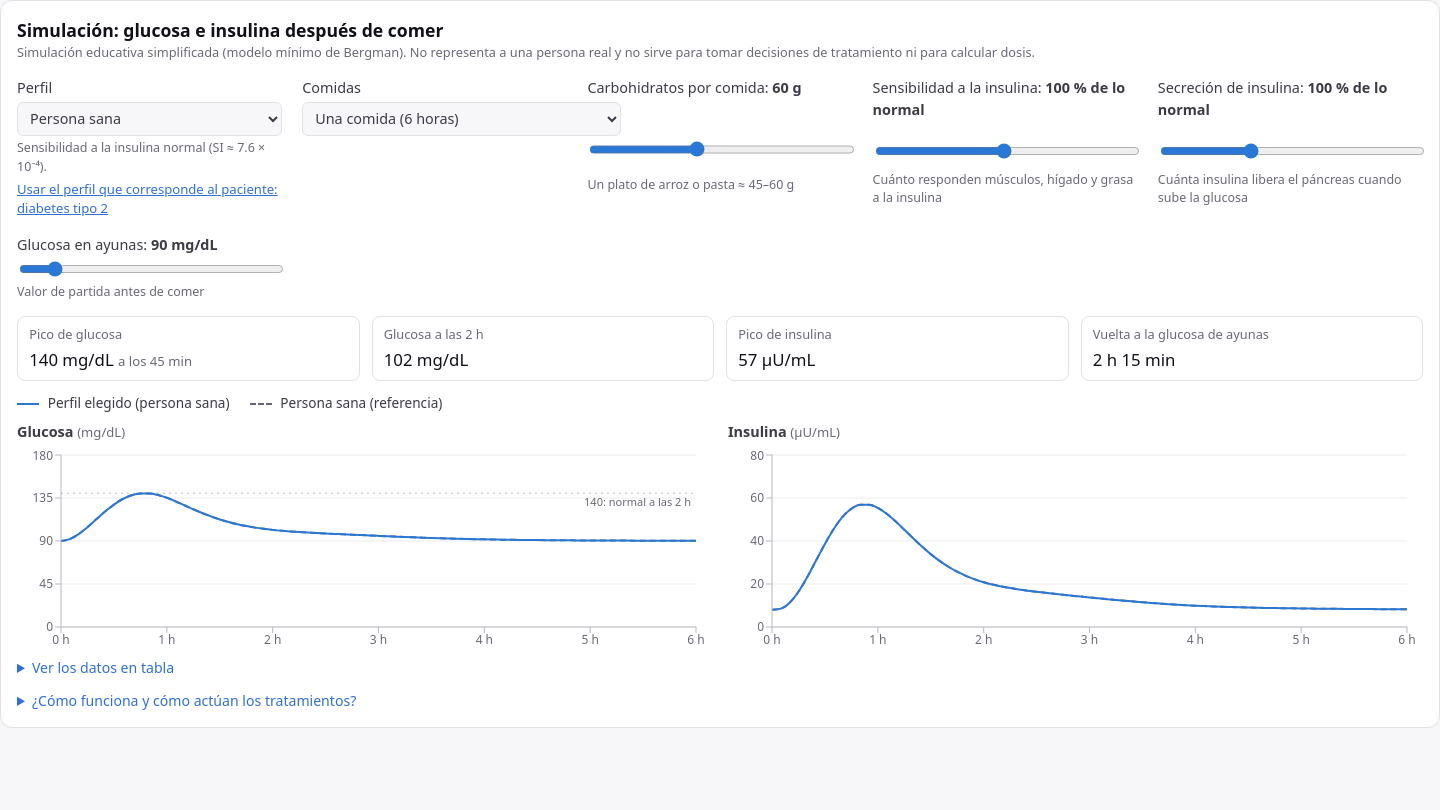
panel de simulación › sugiere el perfil que corresponde al paciente evaluado
This screenshot has width=1440, height=810.
Click the button "Usar el perfil que corresponde al paciente: diabetes tipo 2": {"x": 150, "y": 200} [17,180,282,219]
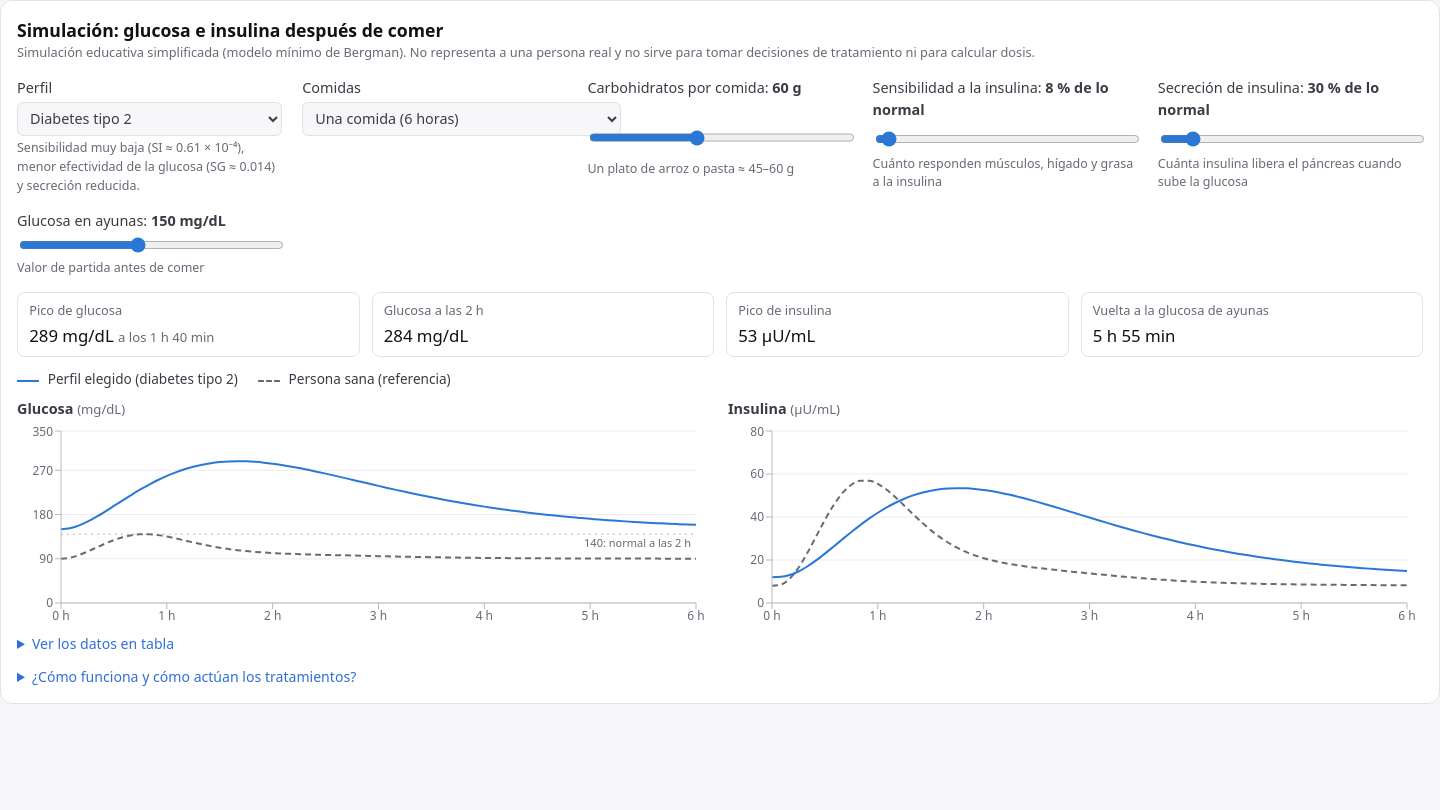
Expected: the dropdown labelled "Perfil" shows "Diabetes tipo 2", [17,102,282,136]
Expected: the button "perfil que corresponde" is gone
